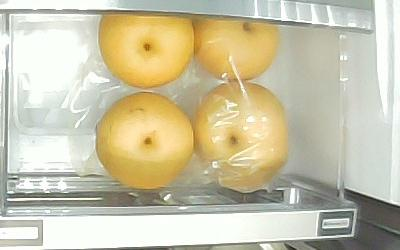pear: (98, 12, 195, 88), (194, 16, 280, 81)
pear_vinyl: (193, 82, 288, 191), (96, 92, 193, 189)
